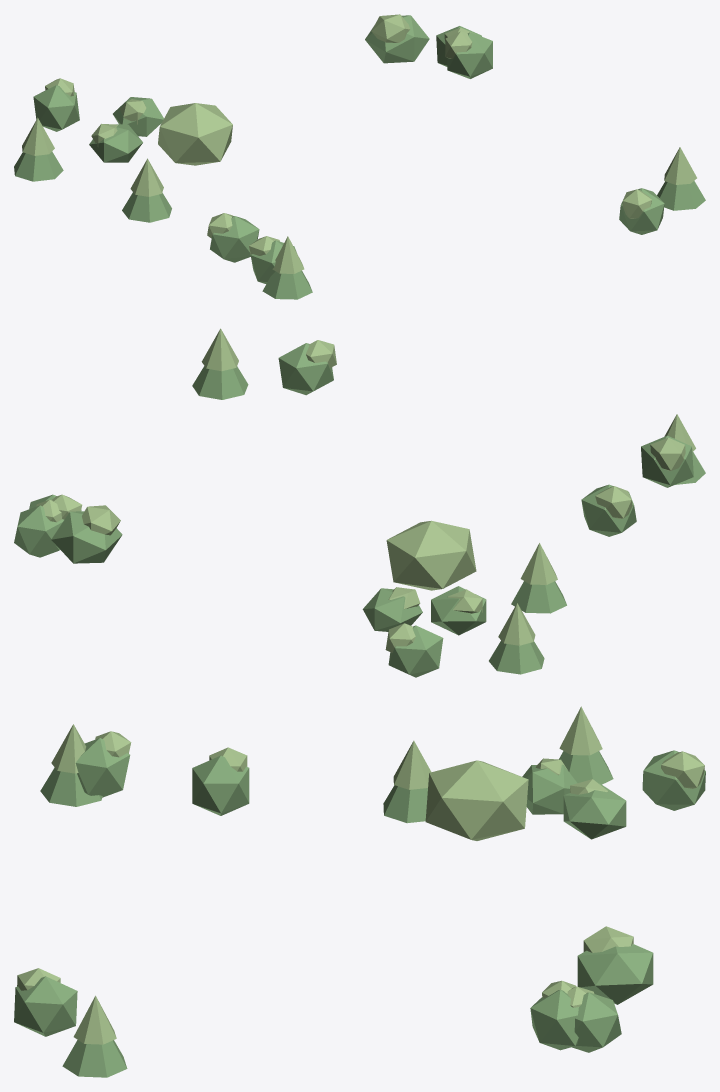
The model's file is path_sunwash_fork_wind_canopies.fbx.
3 renders of one model, top to bottom at view 1: azimuth 30°, elevation 25°; view 2: azimuth 150°, elevation 25°; view 3: azimuth 270°, elevation 25°, orthographic. The views are drawn at different scales.
Visible parts, largest first — view 1: chunk_path_sunwash_fork__tree_canopy_17, chunk_path_sunwash_fork__tree_canopy_10, chunk_path_sunwash_fork__tree_canopy_19, chunk_path_sunwash_fork__tree_canopy_11, chunk_path_sunwash_fork__tree_canopy_24, chunk_path_sunwash_fork__tree_canopy_14, chunk_path_sunwash_fork__tree_canopy_04, chunk_path_sunwash_fork__tree_canopy_01, chunk_path_sunwash_fork__tree_canopy_09, chunk_path_sunwash_fork__tree_canopy_26, chunk_path_sunwash_fork__tree_canopy_21, chunk_path_sunwash_fork__tree_canopy_16 (+8 smaller); view 2: chunk_path_sunwash_fork__tree_canopy_17, chunk_path_sunwash_fork__tree_canopy_19, chunk_path_sunwash_fork__tree_canopy_21, chunk_path_sunwash_fork__tree_canopy_10, chunk_path_sunwash_fork__tree_canopy_25, chunk_path_sunwash_fork__tree_canopy_16, chunk_path_sunwash_fork__tree_canopy_14, chunk_path_sunwash_fork__tree_canopy_26, chunk_path_sunwash_fork__tree_canopy_01, chunk_path_sunwash_fork__tree_canopy_11, chunk_path_sunwash_fork__tree_canopy_07, chunk_path_sunwash_fork__tree_canopy_04 (+9 smaller); view 3: chunk_path_sunwash_fork__tree_canopy_17, chunk_path_sunwash_fork__tree_canopy_19, chunk_path_sunwash_fork__tree_canopy_21, chunk_path_sunwash_fork__tree_canopy_11, chunk_path_sunwash_fork__tree_canopy_16, chunk_path_sunwash_fork__tree_canopy_07, chunk_path_sunwash_fork__tree_canopy_24, chunk_path_sunwash_fork__tree_canopy_25, chunk_path_sunwash_fork__tree_canopy_10, chunk_path_sunwash_fork__tree_canopy_14, chunk_path_sunwash_fork__tree_canopy_26, chunk_path_sunwash_fork__tree_canopy_09 (+9 smaller).
Boxes of the visible parts, x1=… form: chunk_path_sunwash_fork__tree_canopy_17: x1=158, y1=103, x2=232, y2=165; chunk_path_sunwash_fork__tree_canopy_10: x1=33, y1=85, x2=79, y2=131; chunk_path_sunwash_fork__tree_canopy_19: x1=365, y1=15, x2=429, y2=63; chunk_path_sunwash_fork__tree_canopy_11: x1=210, y1=216, x2=259, y2=262; chunk_path_sunwash_fork__tree_canopy_24: x1=447, y1=32, x2=492, y2=78; chunk_path_sunwash_fork__tree_canopy_14: x1=89, y1=124, x2=142, y2=162; chunk_path_sunwash_fork__tree_canopy_04: x1=122, y1=192, x2=171, y2=222; chunk_path_sunwash_fork__tree_canopy_01: x1=14, y1=151, x2=63, y2=181; chunk_path_sunwash_fork__tree_canopy_09: x1=262, y1=270, x2=312, y2=299; chunk_path_sunwash_fork__tree_canopy_26: x1=657, y1=181, x2=705, y2=210; chunk_path_sunwash_fork__tree_canopy_21: x1=619, y1=188, x2=664, y2=234; chunk_path_sunwash_fork__tree_canopy_16: x1=113, y1=97, x2=163, y2=136; chunk_path_sunwash_fork__tree_canopy_17: x1=386, y1=520, x2=476, y2=590; chunk_path_sunwash_fork__tree_canopy_19: x1=51, y1=511, x2=122, y2=563; chunk_path_sunwash_fork__tree_canopy_21: x1=278, y1=343, x2=333, y2=395; chunk_path_sunwash_fork__tree_canopy_10: x1=388, y1=625, x2=443, y2=677; chunk_path_sunwash_fork__tree_canopy_25: x1=14, y1=505, x2=63, y2=557; chunk_path_sunwash_fork__tree_canopy_16: x1=362, y1=588, x2=422, y2=631; chunk_path_sunwash_fork__tree_canopy_14: x1=431, y1=586, x2=486, y2=635; chunk_path_sunwash_fork__tree_canopy_26: x1=192, y1=366, x2=248, y2=399; chunk_path_sunwash_fork__tree_canopy_01: x1=489, y1=640, x2=544, y2=674; chunk_path_sunwash_fork__tree_canopy_11: x1=581, y1=484, x2=636, y2=536; chunk_path_sunwash_fork__tree_canopy_07: x1=641, y1=435, x2=693, y2=487; chunk_path_sunwash_fork__tree_canopy_04: x1=511, y1=581, x2=566, y2=613; chunk_path_sunwash_fork__tree_canopy_17: x1=425, y1=760, x2=528, y2=840; chunk_path_sunwash_fork__tree_canopy_19: x1=577, y1=944, x2=653, y2=1004; chunk_path_sunwash_fork__tree_canopy_21: x1=14, y1=976, x2=77, y2=1036; chunk_path_sunwash_fork__tree_canopy_11: x1=192, y1=755, x2=249, y2=815; chunk_path_sunwash_fork__tree_canopy_16: x1=563, y1=782, x2=626, y2=839; chunk_path_sunwash_fork__tree_canopy_07: x1=75, y1=738, x2=130, y2=797; chunk_path_sunwash_fork__tree_canopy_24: x1=530, y1=989, x2=578, y2=1050; chunk_path_sunwash_fork__tree_canopy_25: x1=572, y1=992, x2=621, y2=1052; chunk_path_sunwash_fork__tree_canopy_10: x1=642, y1=750, x2=705, y2=810; chunk_path_sunwash_fork__tree_canopy_14: x1=522, y1=764, x2=577, y2=814; chunk_path_sunwash_fork__tree_canopy_26: x1=62, y1=1040, x2=127, y2=1077; chunk_path_sunwash_fork__tree_canopy_09: x1=40, y1=767, x2=102, y2=806.
Size of the model in its own units: 199 by 29.85 by 186.
